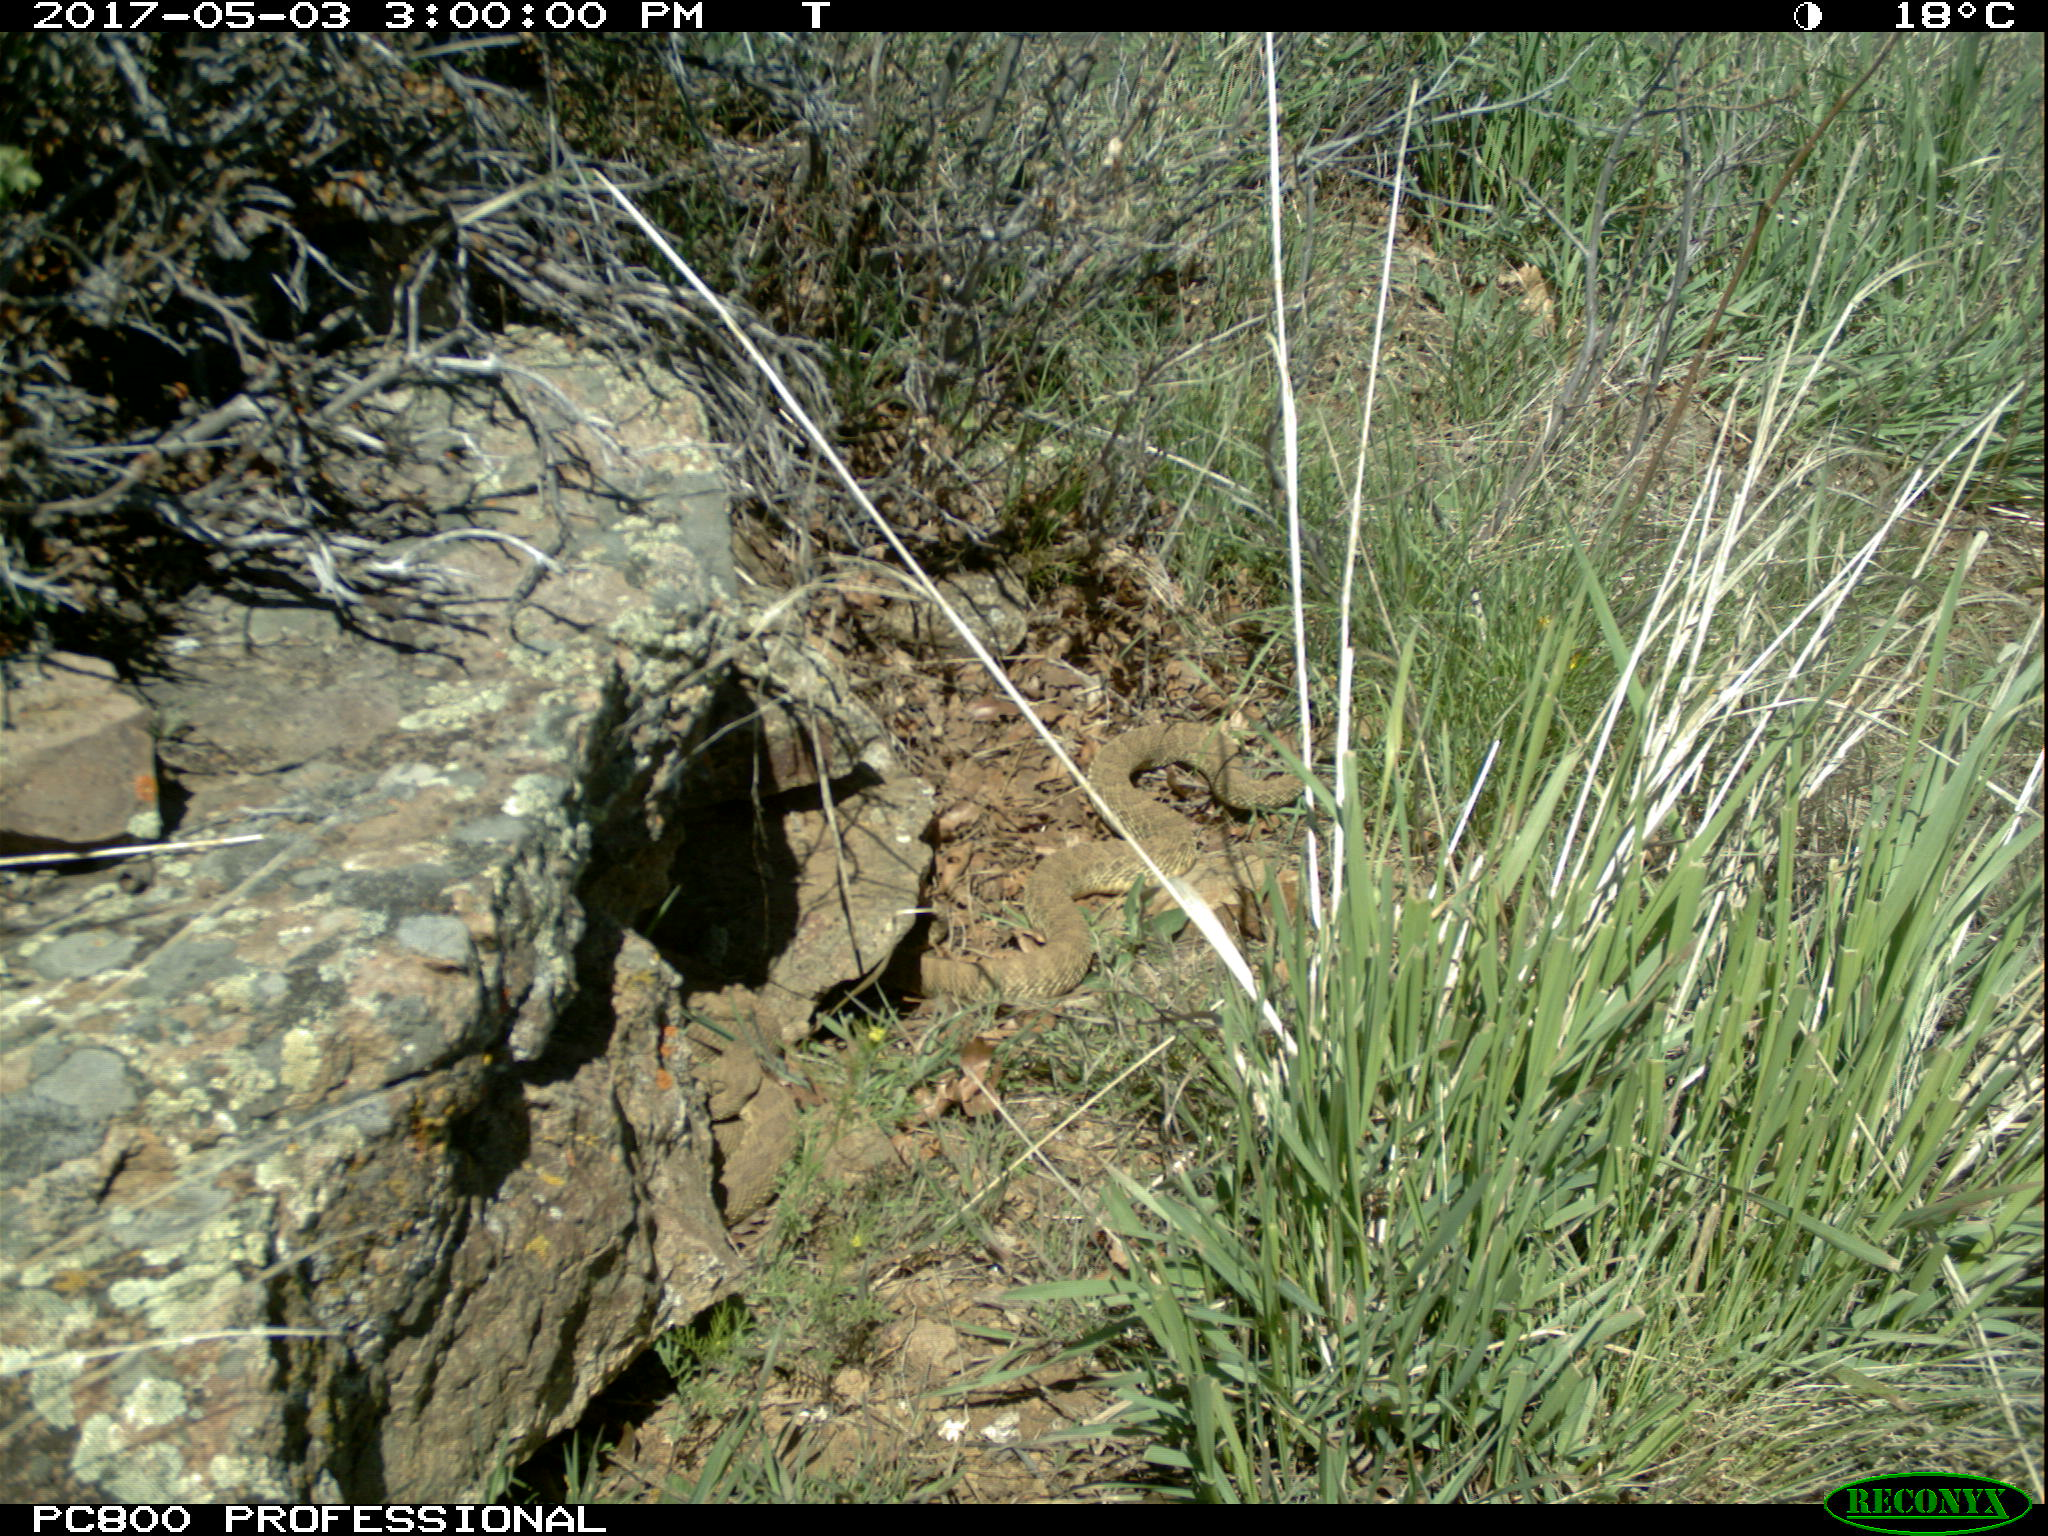snake: (910, 718, 1319, 1004), (672, 986, 842, 1217)
